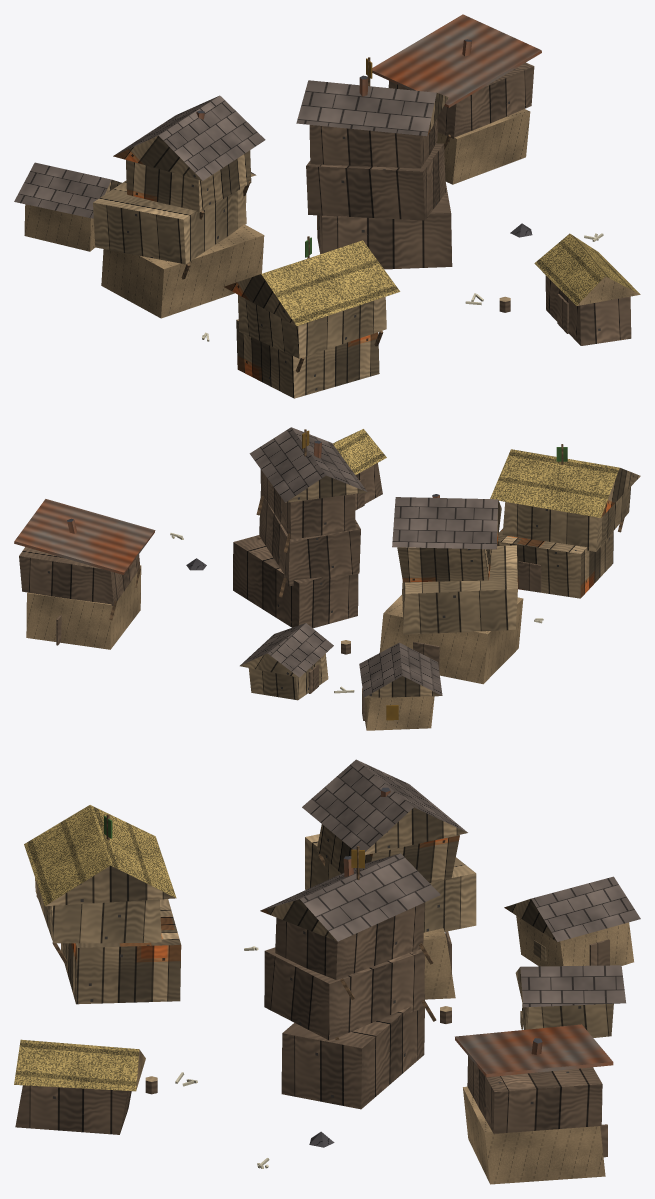
Rendered from cm_goblin_burgher_b.glb.
3 views of the same model, one above another, from view 1: azimuth 30°, elevation 25°; view 2: azimuth 150°, elevation 25°; view 3: azimuth 270°, elevation 25° (orthographic). The views are drawn at different scales.
Visible parts, largest first — view 1: cm_goblin_burgher_b; view 2: cm_goblin_burgher_b; view 3: cm_goblin_burgher_b.
Part boxes in pixels (x1,y1,x2,y2): cm_goblin_burgher_b: (14, 14, 640, 398); cm_goblin_burgher_b: (14, 427, 640, 730); cm_goblin_burgher_b: (14, 759, 640, 1184).
Bounding box in the file's own units: 1.62 × 0.6383 × 1.61.
Materials: 1 (1 with a texture image).
